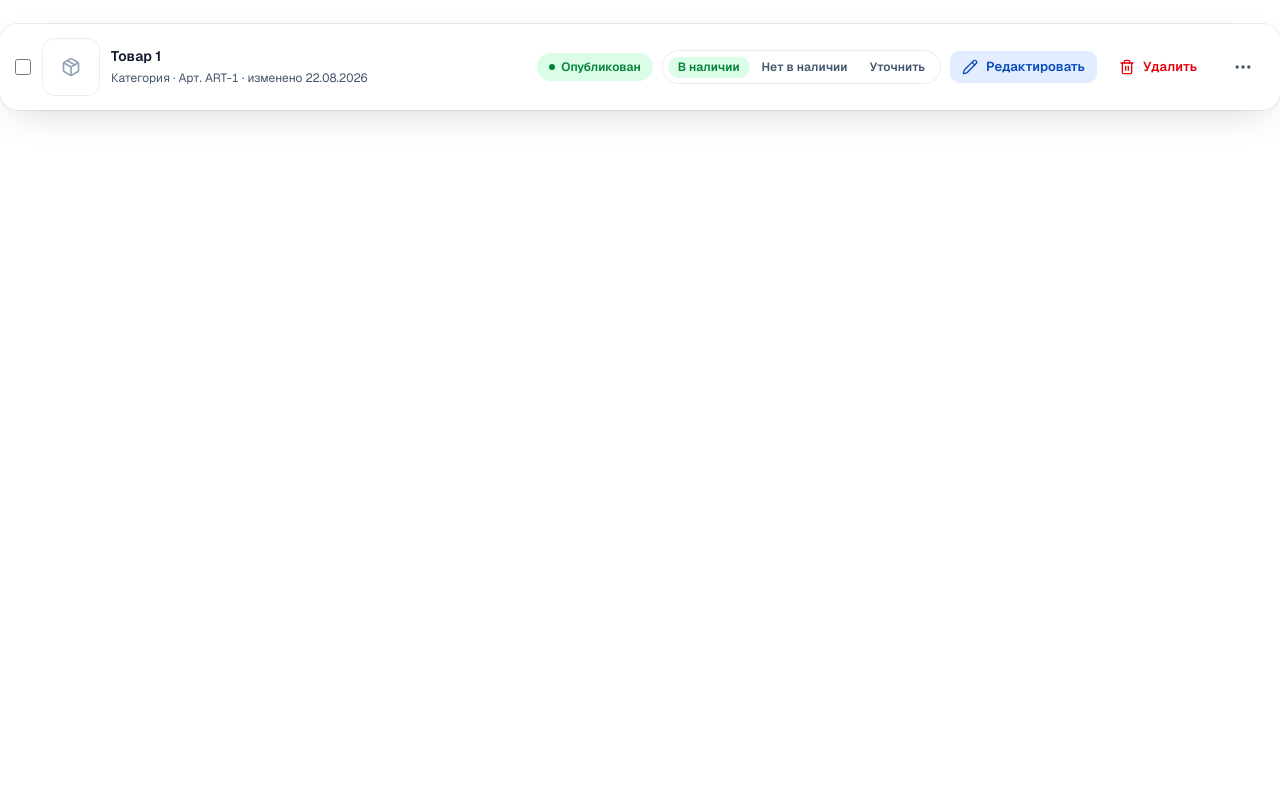
Scenario: ProductsList publication and hotspot state › назначает свободную точку одним CAS-изменением и обновляет локальное закрепление
What coordinates should you click on to do the following:
click the button named "Открыть действия с товаром «Товар 1»"
I would click on:
 (1243, 67)
Its box is 1221,45 -> 1265,89.
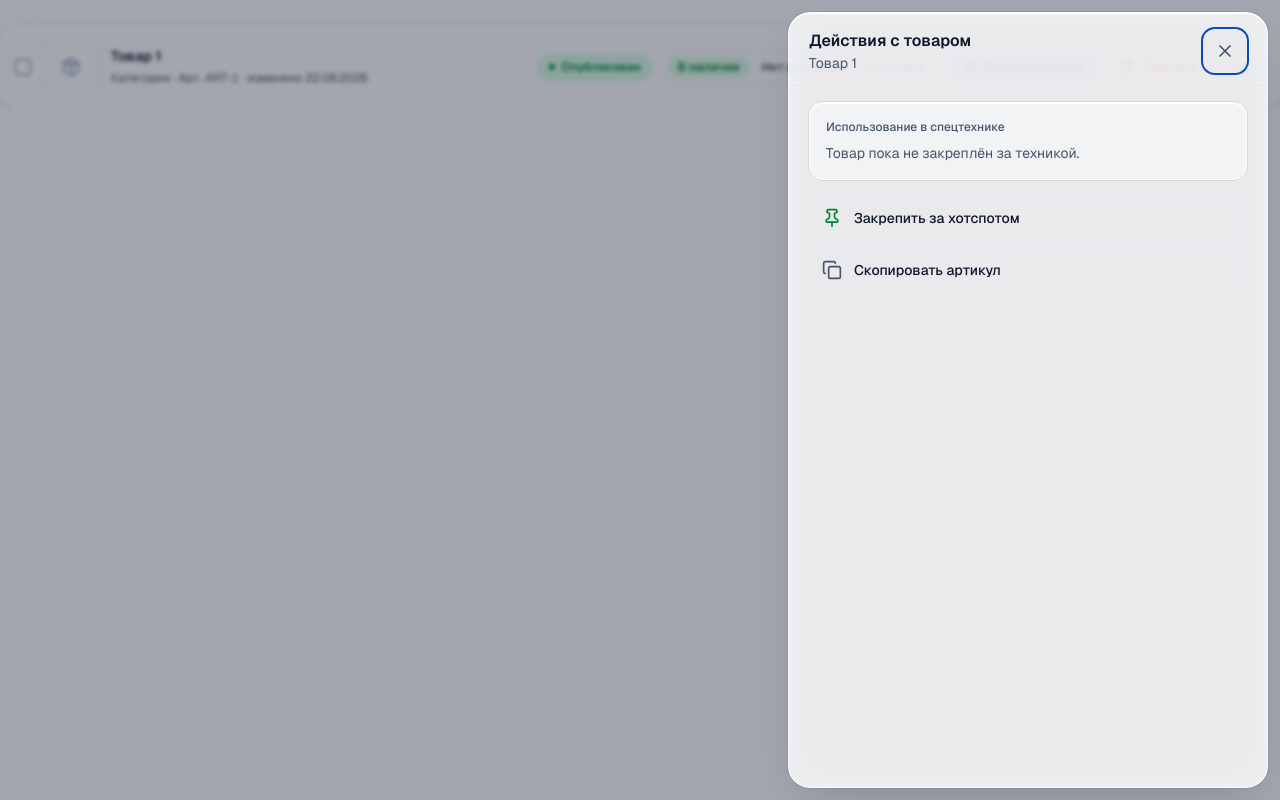
What coordinates should you click on to do the following:
click the button "Закрепить за хотспотом"
I would click on:
 (937, 218)
Its box is 809,196 -> 1247,240.
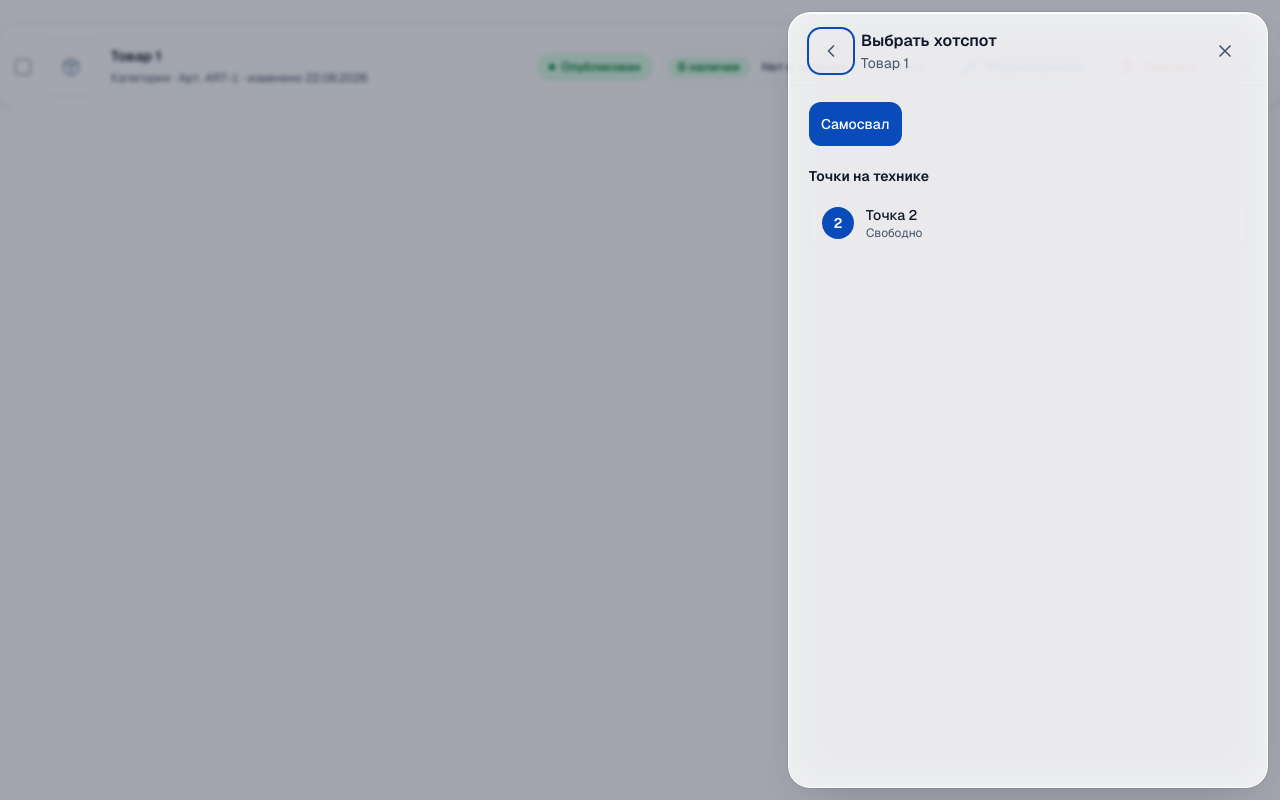
What coordinates should you click on to do the following:
click the button "2 Точка 2 Свободно"
I would click on:
 (838, 223)
Its box is 809,194 -> 1247,252.
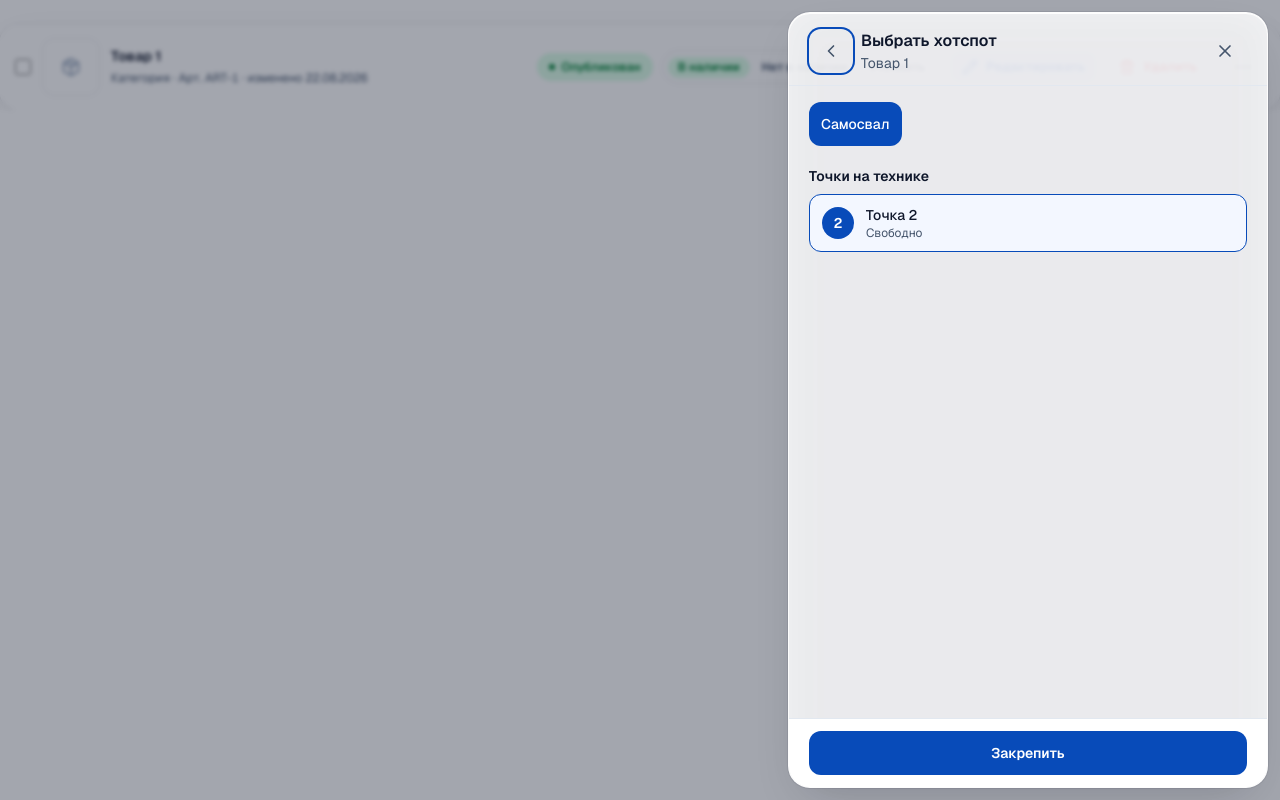
What coordinates should you click on to do the following:
click the button "Закрепить"
I would click on:
 (1028, 753)
Its box is 809,731 -> 1247,775.
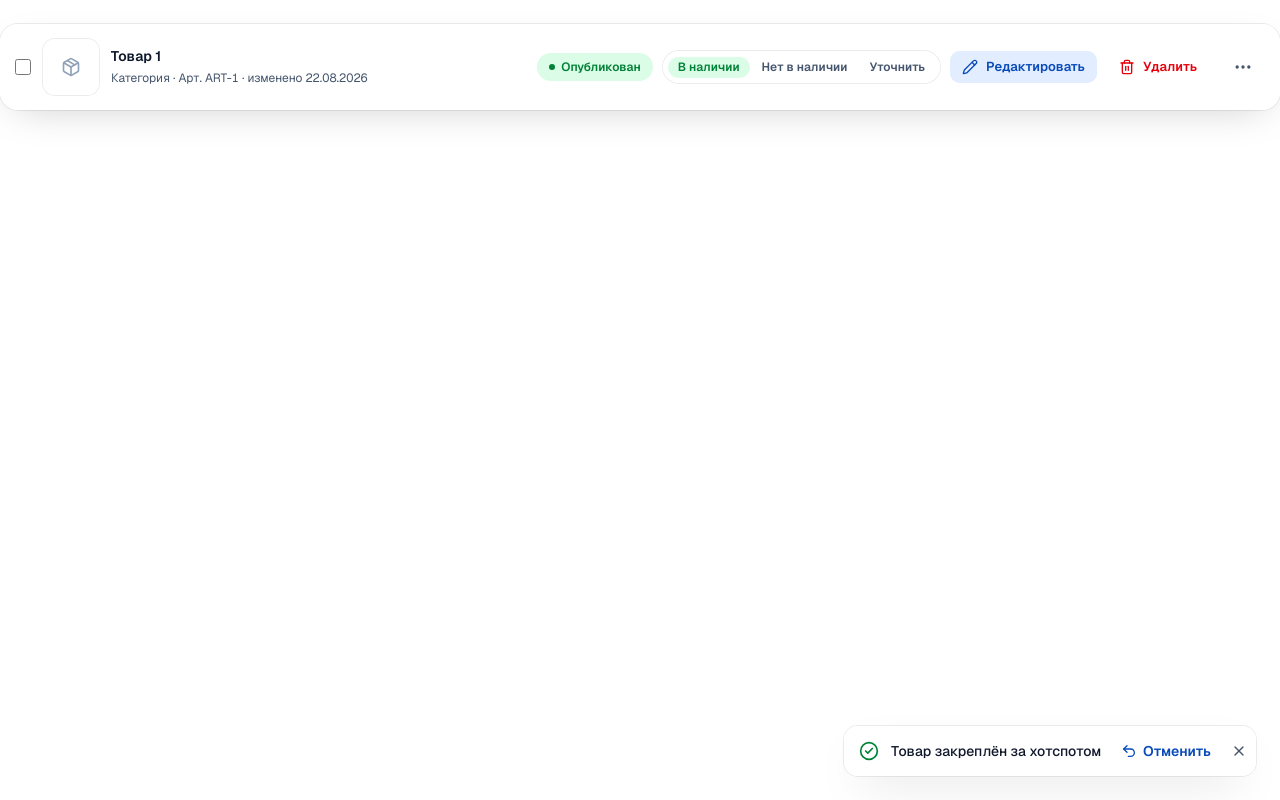
Check: the heading "Выбрать хотспот" is gone
What coordinates should you click on to do the following:
click the button named "Открыть действия с товаром «Товар 1»"
I would click on:
 (1243, 67)
Its box is 1221,45 -> 1265,89.
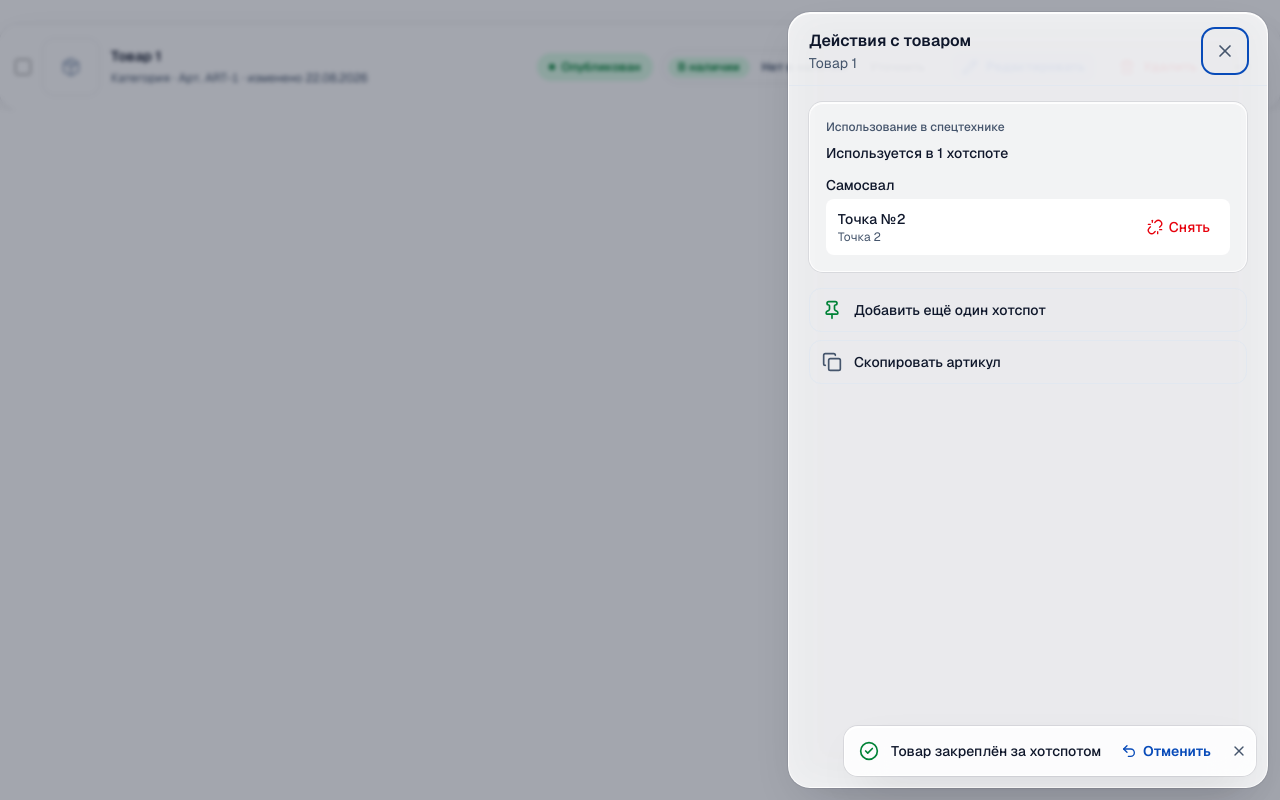
Check: the text "Точка №2" is shown, box 838,210 -> 906,228
